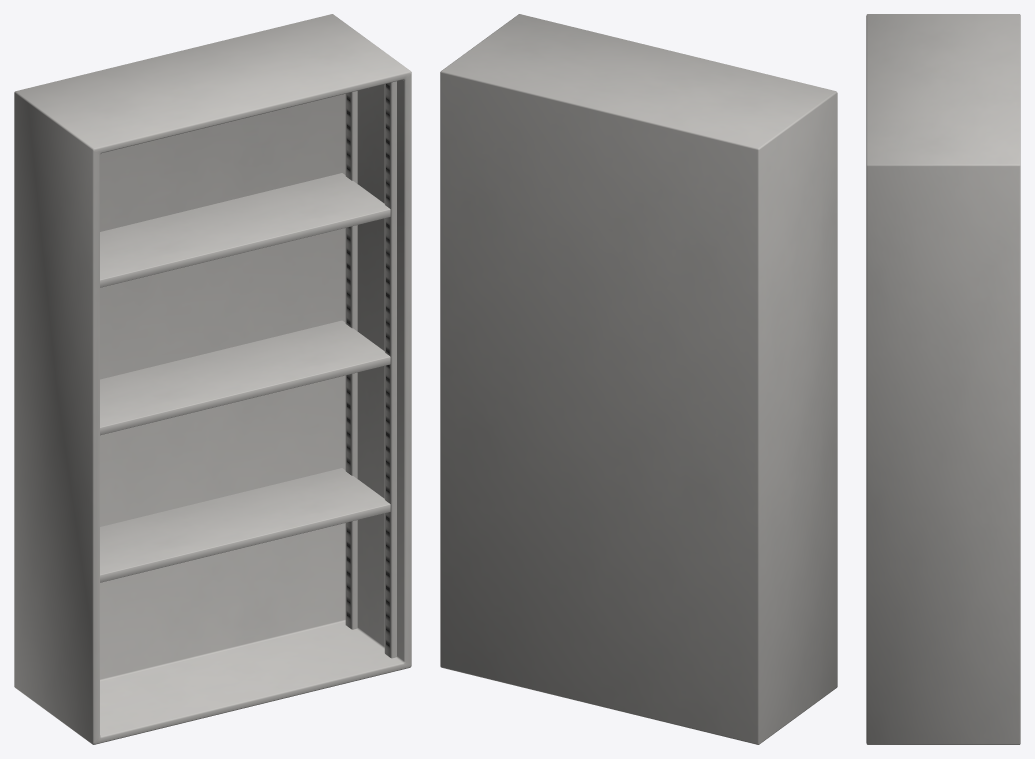
Rendered from Shelf_B.fbx.
3 views of the same model, side by side, from view 1: azimuth 30°, elevation 25°; view 2: azimuth 150°, elevation 25°; view 3: azimuth 270°, elevation 25° (orthographic). The views are drawn at different scales.
Parts seen in each view (by area): view 1: Shelf_B; view 2: Shelf_B; view 3: Shelf_B.
Part boxes in pixels (left/top/right/bottom): Shelf_B: left=14, top=14, right=411, bottom=744; Shelf_B: left=440, top=14, right=837, bottom=744; Shelf_B: left=866, top=14, right=1020, bottom=744.
Bounding box in the file's own units: 1.53 × 2.74 × 0.659.
